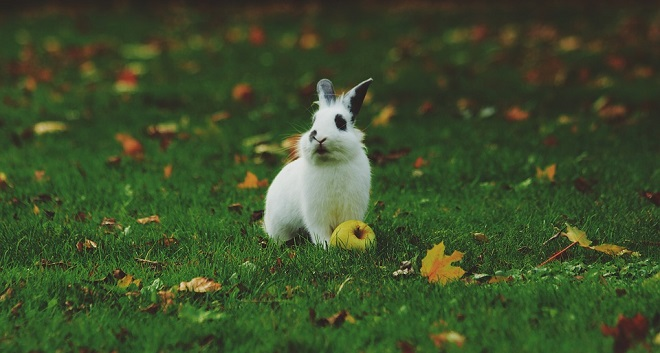bunny: (251, 63, 395, 255)
